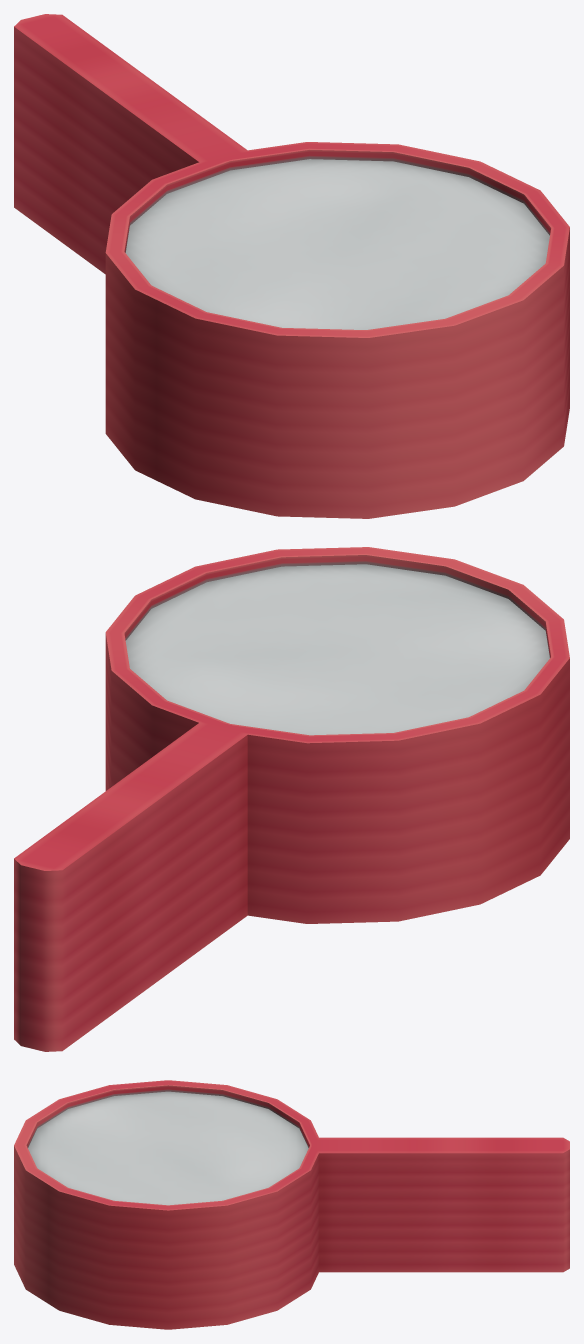
File: jsf_Poi_02_set.fbx
3 views of the same model, one above another, from view 1: azimuth 30°, elevation 25°; view 2: azimuth 150°, elevation 25°; view 3: azimuth 270°, elevation 25° (orthographic). The views are drawn at different scales.
Parts seen in each view (by area): view 1: jsf_Poi_02_set; view 2: jsf_Poi_02_set; view 3: jsf_Poi_02_set.
Boxes of the visible parts, x1,y1,x2,y2 form: jsf_Poi_02_set: (14, 14, 569, 518); jsf_Poi_02_set: (14, 547, 569, 1051); jsf_Poi_02_set: (14, 1080, 569, 1329).
Bounding box in the file's own units: 8.21 × 3.5 × 14.79.
